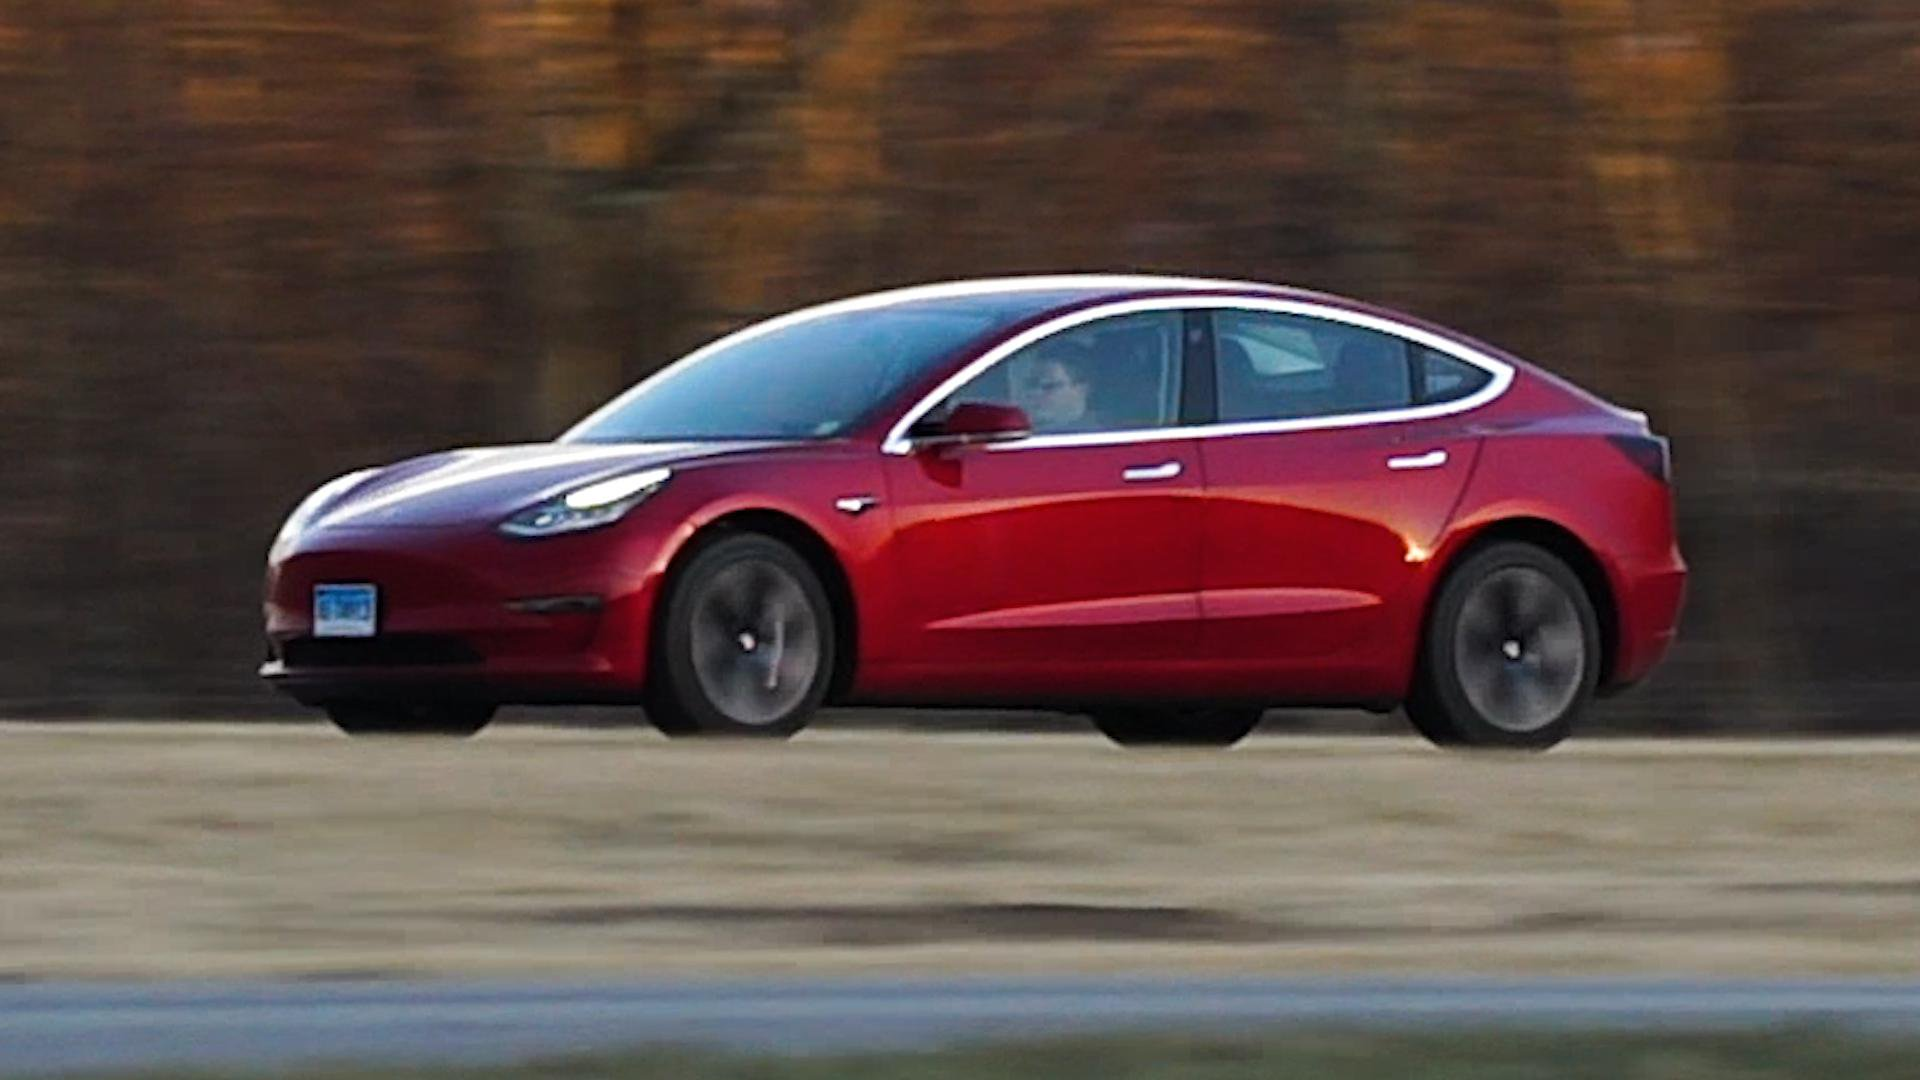car: (261, 277, 1685, 773)
